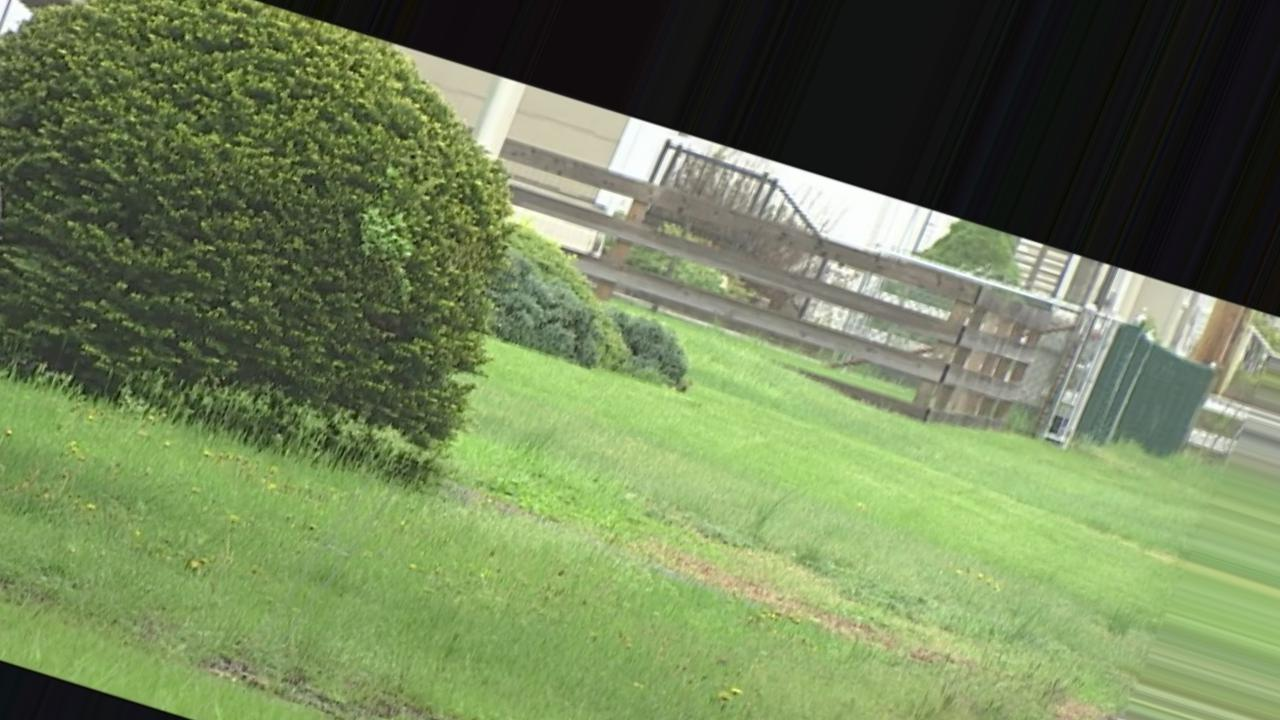patch: (612, 533, 907, 654)
